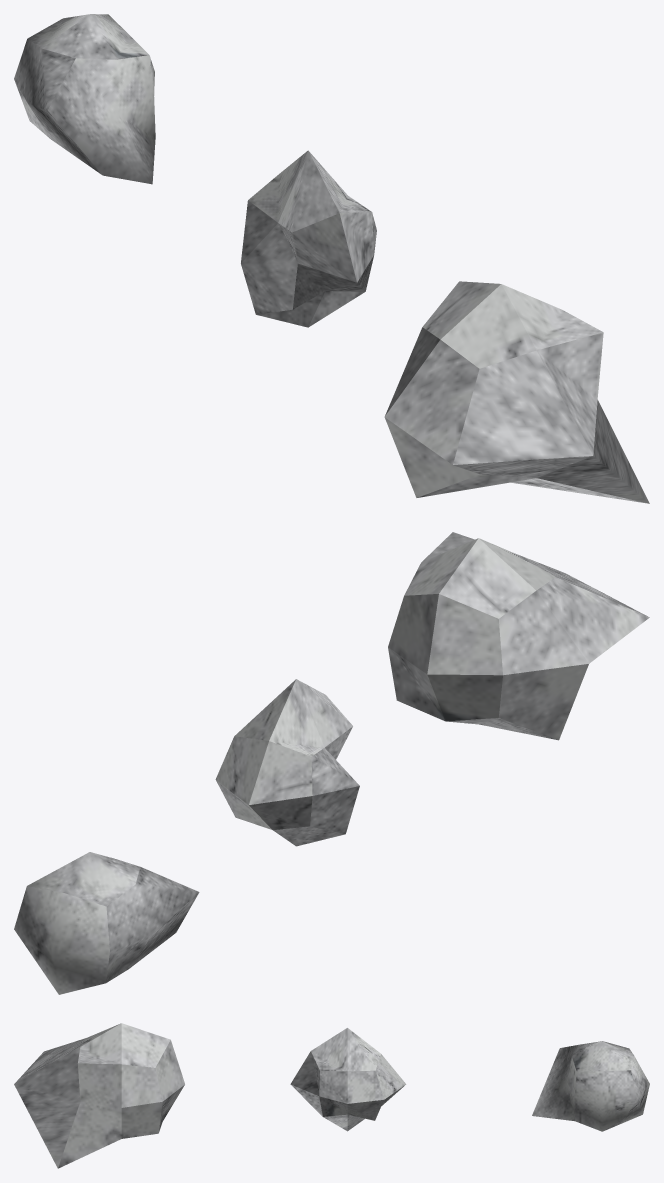
Rendered from boulders.fbx.
3 renders of one model, top to bottom at view 1: azimuth 30°, elevation 25°; view 2: azimuth 150°, elevation 25°; view 3: azimuth 270°, elevation 25°, orthographic. The views are drawn at different scales.
Visible parts, largest first — view 1: Cube.002, Cube, Cube.001; view 2: Cube.002, Cube, Cube.001; view 3: Cube.002, Cube, Cube.001.
Boxes of the visible parts, x1,y1,x2,y2 form: Cube.002: (384, 281, 649, 503); Cube: (14, 14, 155, 184); Cube.001: (241, 150, 376, 327); Cube.002: (388, 532, 649, 740); Cube: (14, 852, 199, 994); Cube.001: (215, 679, 359, 846); Cube.002: (14, 1023, 184, 1168); Cube: (532, 1041, 649, 1131); Cube.001: (290, 1028, 406, 1131).
Size of the model in its own units: 277 by 254 by 1234.
Materials: 1 (1 with a texture image).
